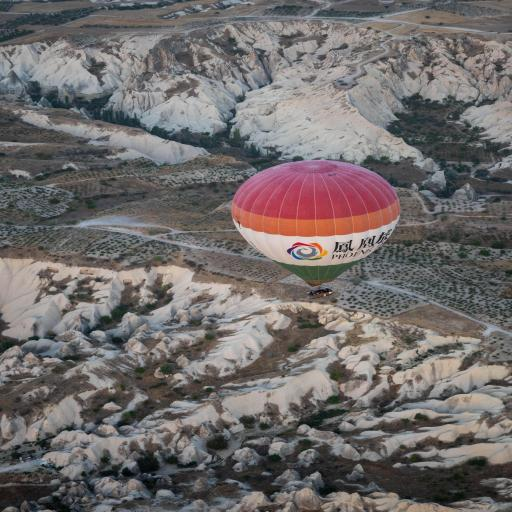hot air ballon: (226, 156, 406, 306)
